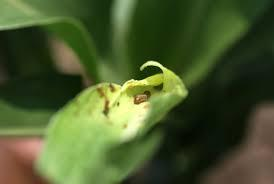fallarmy_worm: (128, 90, 151, 108)
